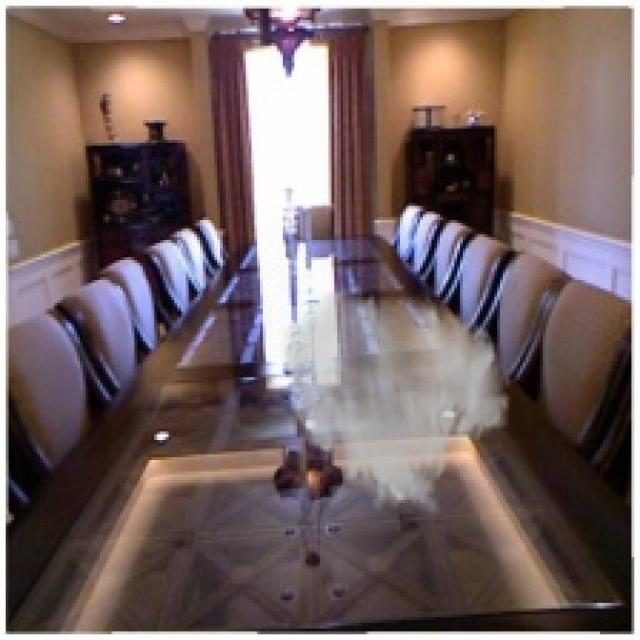smoke: (280, 283, 514, 520)
